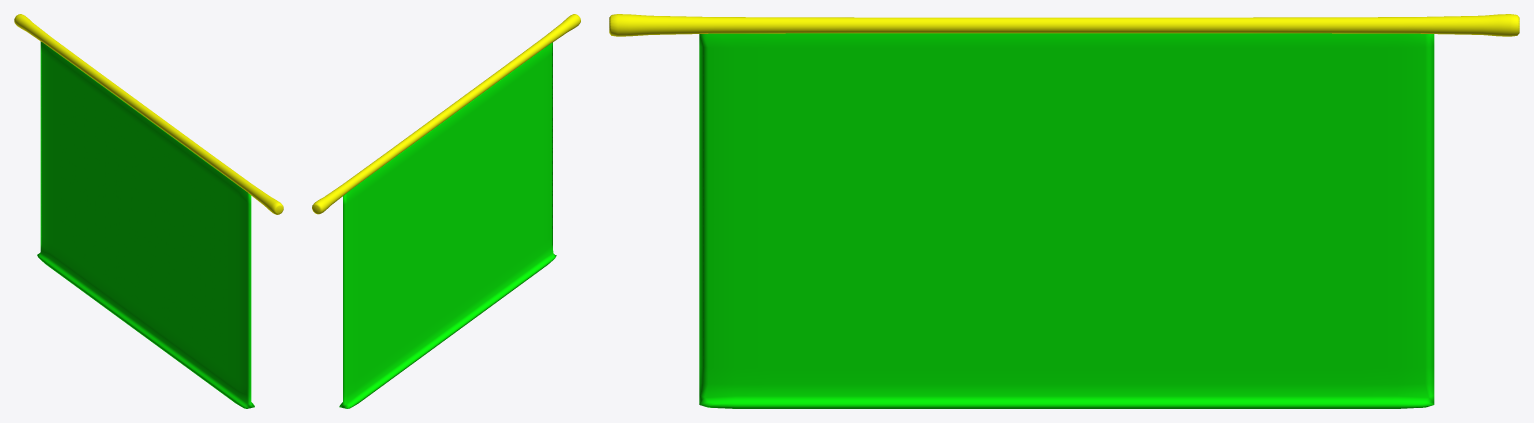
The model's file is store.fbx.
The picture shows the model from 3 angles, left to right: view 1: azimuth 30°, elevation 25°; view 2: azimuth 150°, elevation 25°; view 3: azimuth 270°, elevation 25°; orthographic projection. The views are drawn at different scales.
Visible parts, largest first — view 1: pPlane9, pCylinder16; view 2: pPlane9, pCylinder16; view 3: pPlane9, pCylinder16.
Part boxes in pixels (x1,y1,x2,y2): pPlane9: (37, 41, 254, 408); pCylinder16: (14, 14, 283, 214); pPlane9: (339, 42, 556, 408); pCylinder16: (312, 14, 580, 214); pPlane9: (699, 33, 1434, 408); pCylinder16: (609, 14, 1519, 36).
Size of the model in its own units: 0.153 by 2.39 by 5.03.
